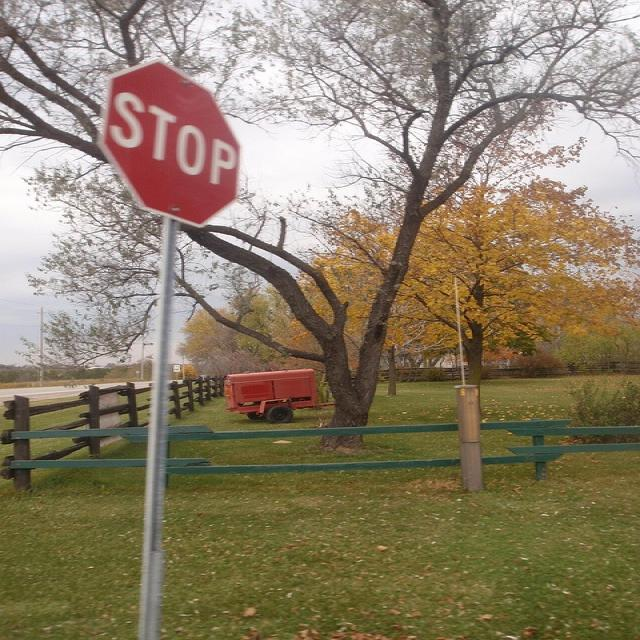pole: (131, 216, 172, 639)
truck: (223, 368, 333, 422)
